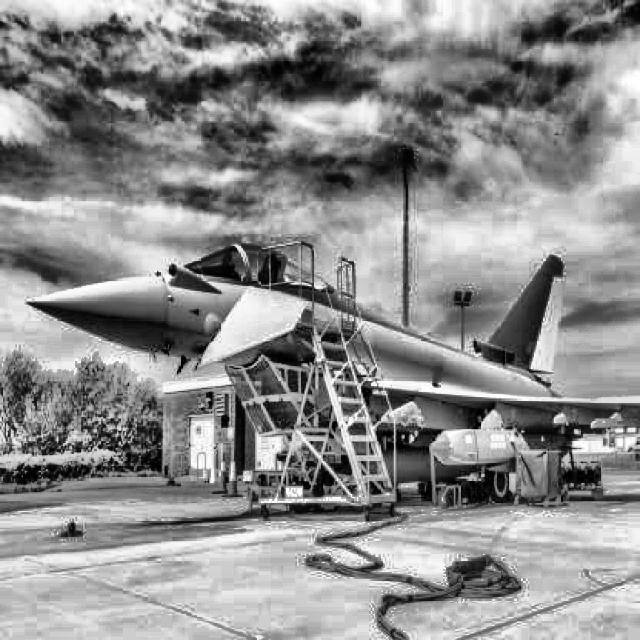EF2000: (24, 242, 640, 515)
